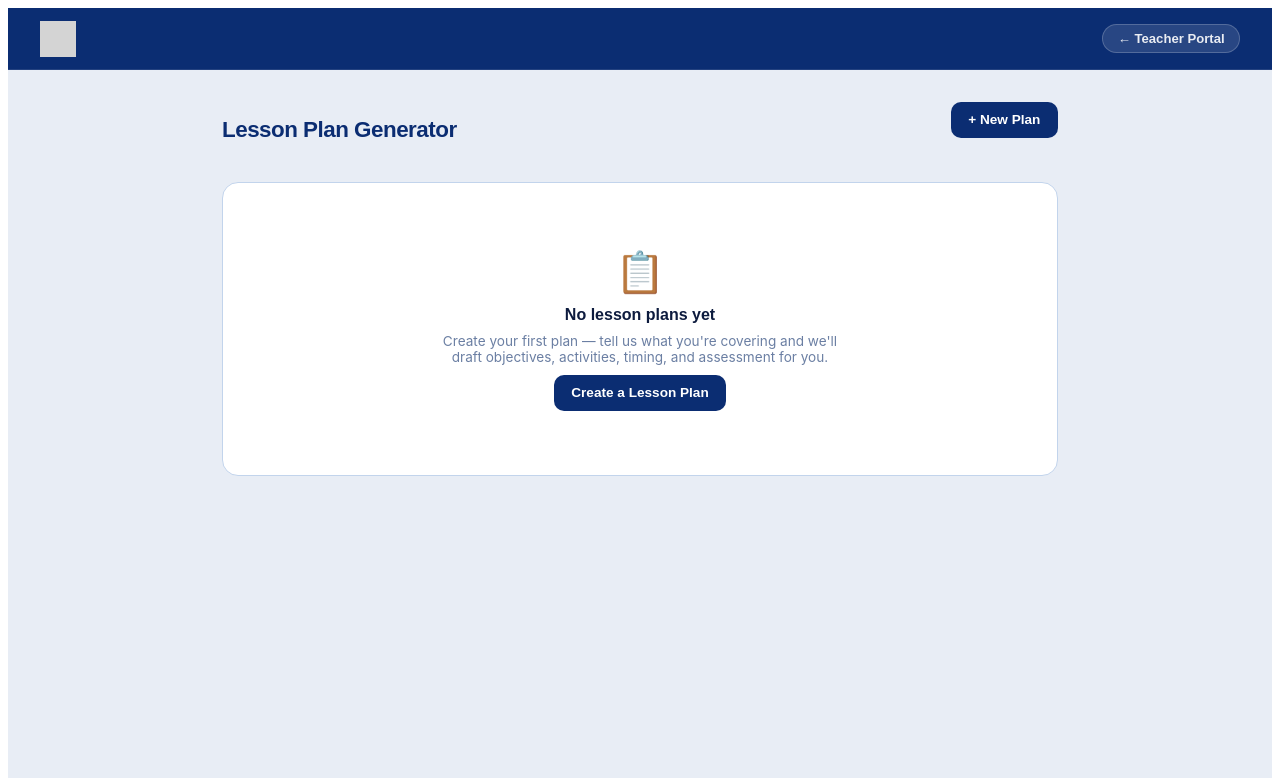
LessonPlansRouter — nested mount depth › "+ New Plan" navigates to the nested "new" path, not the app root
Click the link "+ New Plan".
click(1004, 120)  # box [951,102,1058,138]
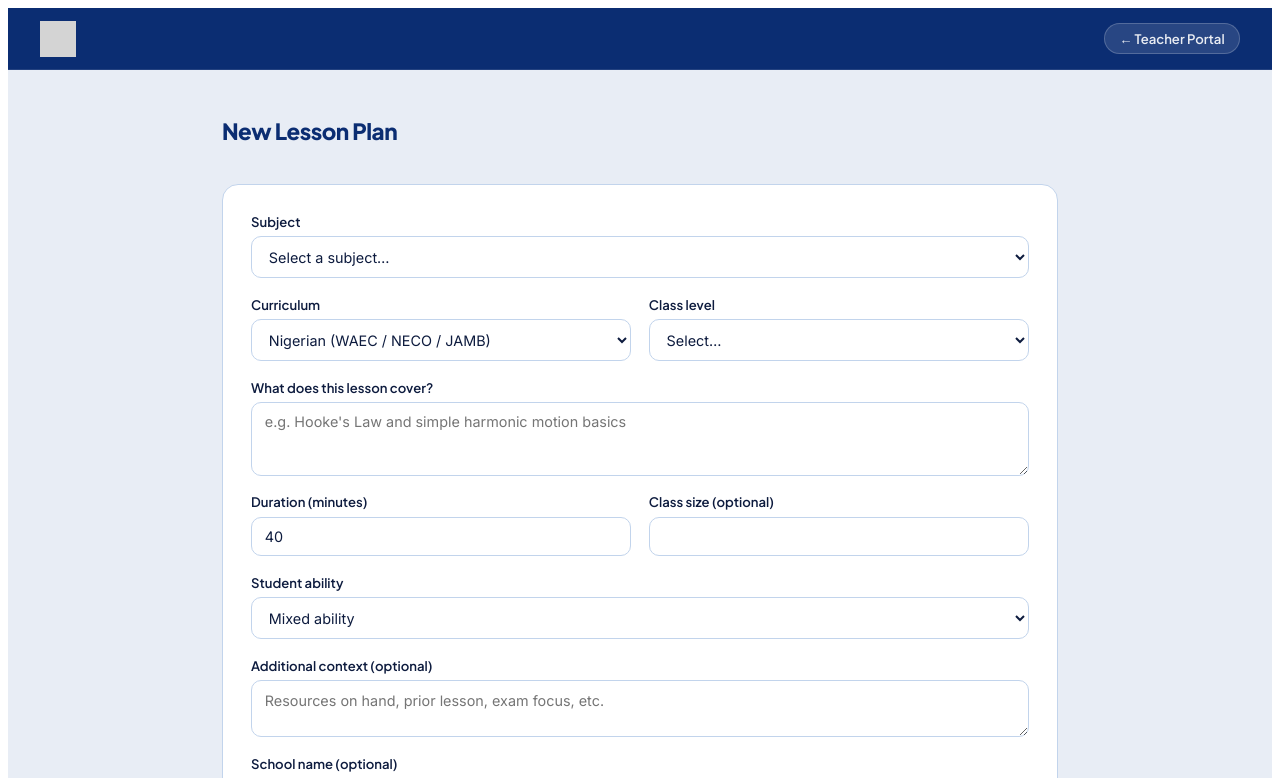
Result: the heading "New Lesson Plan" is shown at [222,117,397,145]
